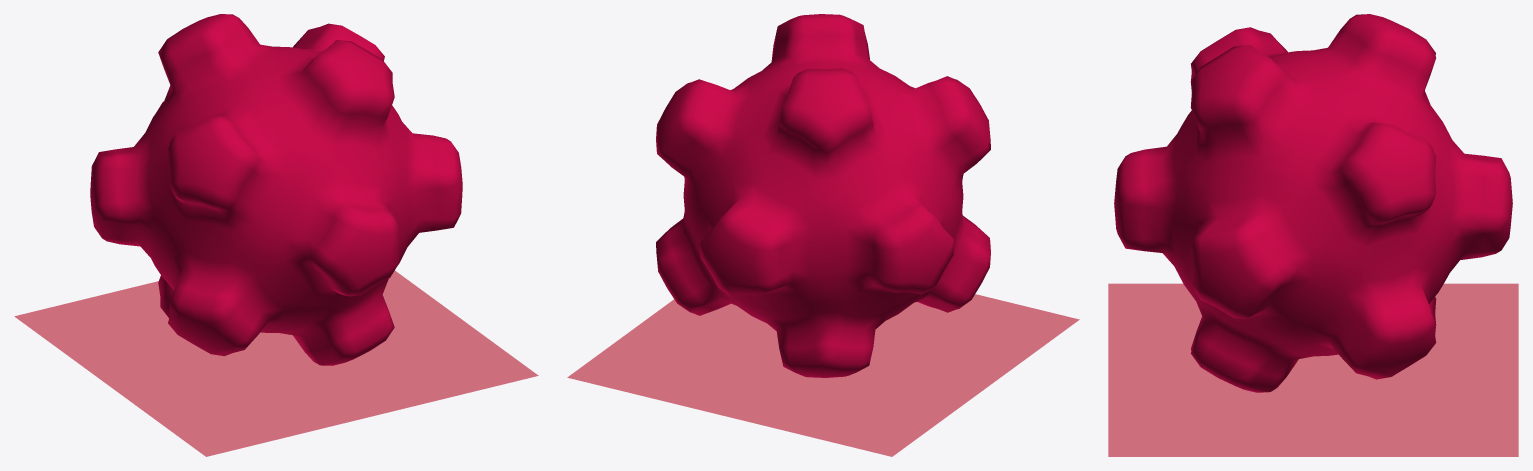
The model's file is planet1_pink.fbx.
3 renders of one model, left to right at view 1: azimuth 30°, elevation 25°; view 2: azimuth 150°, elevation 25°; view 3: azimuth 270°, elevation 25°, orthographic. The views are drawn at different scales.
Parts seen in each view (by area): view 1: planet1, five_five; view 2: planet1, five_five; view 3: planet1, five_five.
Boxes of the visible parts, <box> form: planet1: <box>90,14,462,365</box>; five_five: <box>14,270,538,456</box>; planet1: <box>656,14,990,377</box>; five_five: <box>567,294,1079,456</box>; planet1: <box>1114,14,1512,392</box>; five_five: <box>1108,283,1518,456</box>.
Bounding box in the file's own units: 5 × 4.47 × 5.
